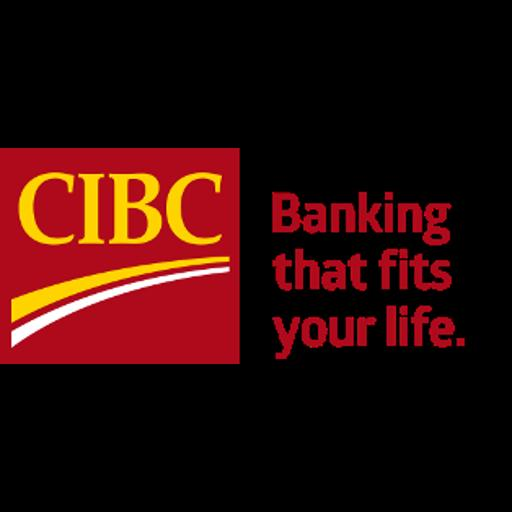Canadian Imperial Bank of Commerce: (0, 148, 512, 364)
